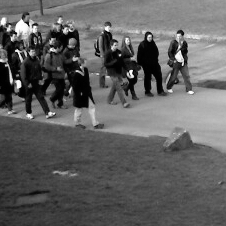person: (21, 46, 56, 119), (71, 57, 104, 130), (137, 30, 165, 96), (166, 29, 193, 94), (105, 39, 130, 108), (44, 41, 68, 109), (121, 36, 140, 101), (94, 18, 111, 88), (1, 48, 16, 115), (63, 37, 80, 95), (11, 42, 26, 101), (3, 31, 20, 72), (15, 12, 34, 46), (65, 18, 80, 57), (28, 22, 44, 56), (46, 23, 62, 47), (44, 31, 60, 54), (1, 23, 15, 45), (61, 24, 71, 47), (54, 15, 66, 26), (1, 16, 9, 32)
